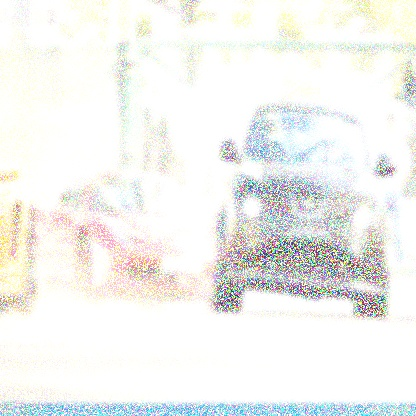Vehicle: (210, 99, 402, 322)
